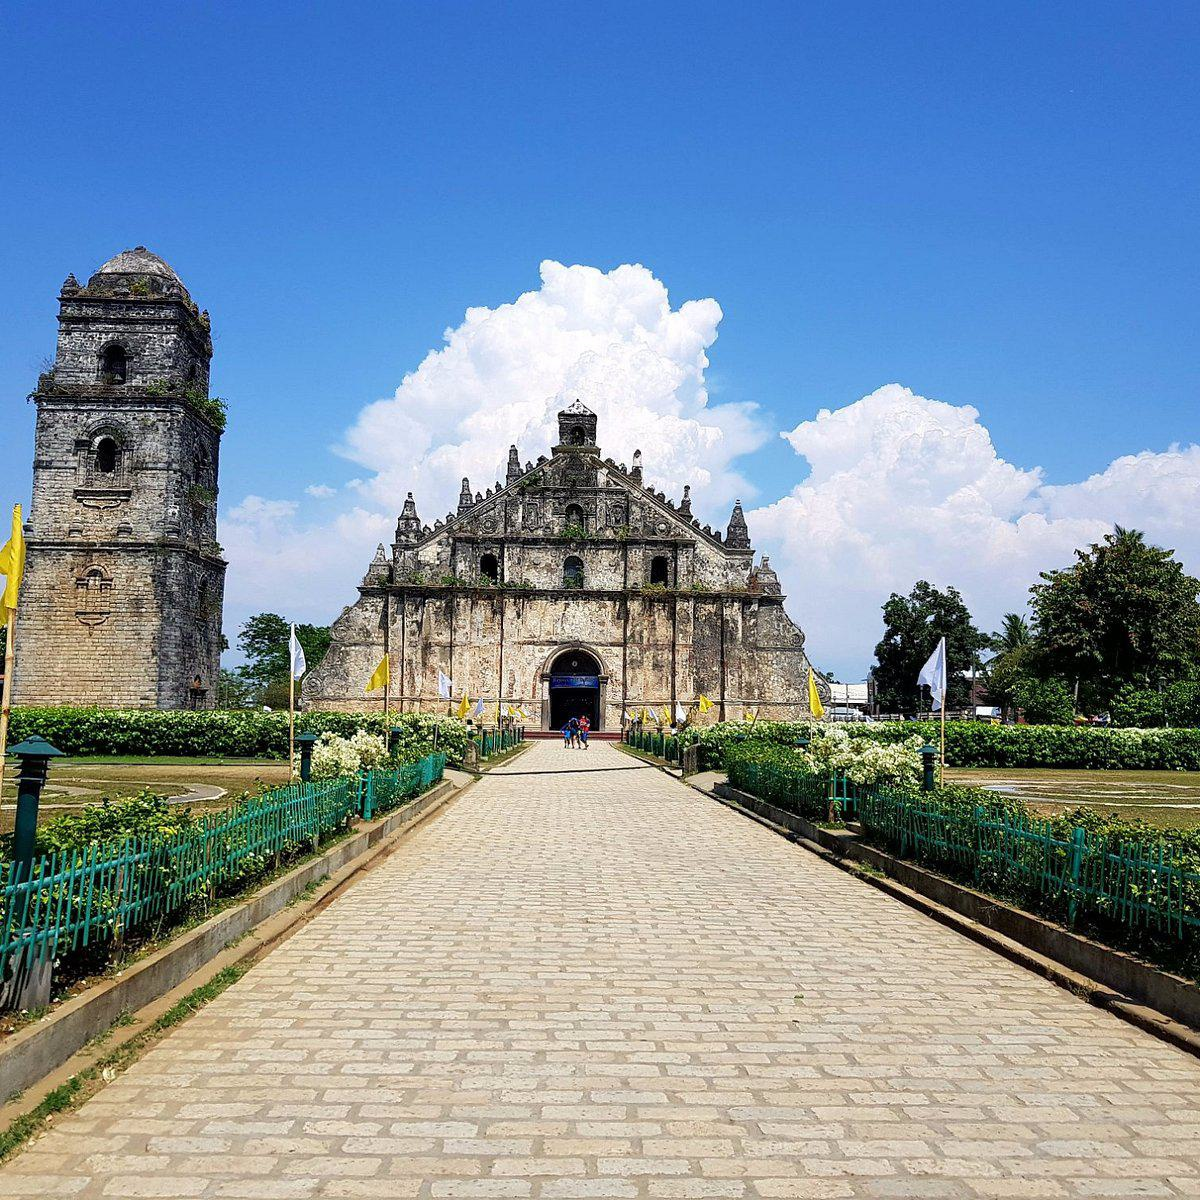paoay_church_paoay_ilocos_norte: (2, 234, 862, 755)
vegetation_damage: (162, 378, 243, 434), (551, 518, 589, 549), (633, 571, 673, 602), (479, 567, 500, 597), (441, 568, 468, 587)
